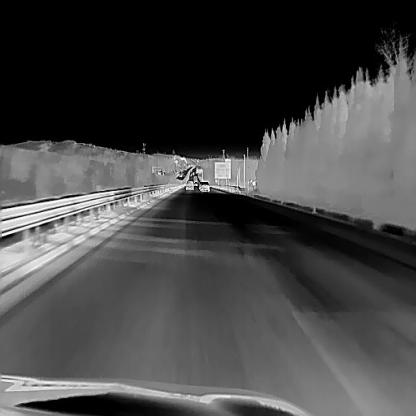car: (198, 180, 209, 192), (184, 180, 193, 190)
